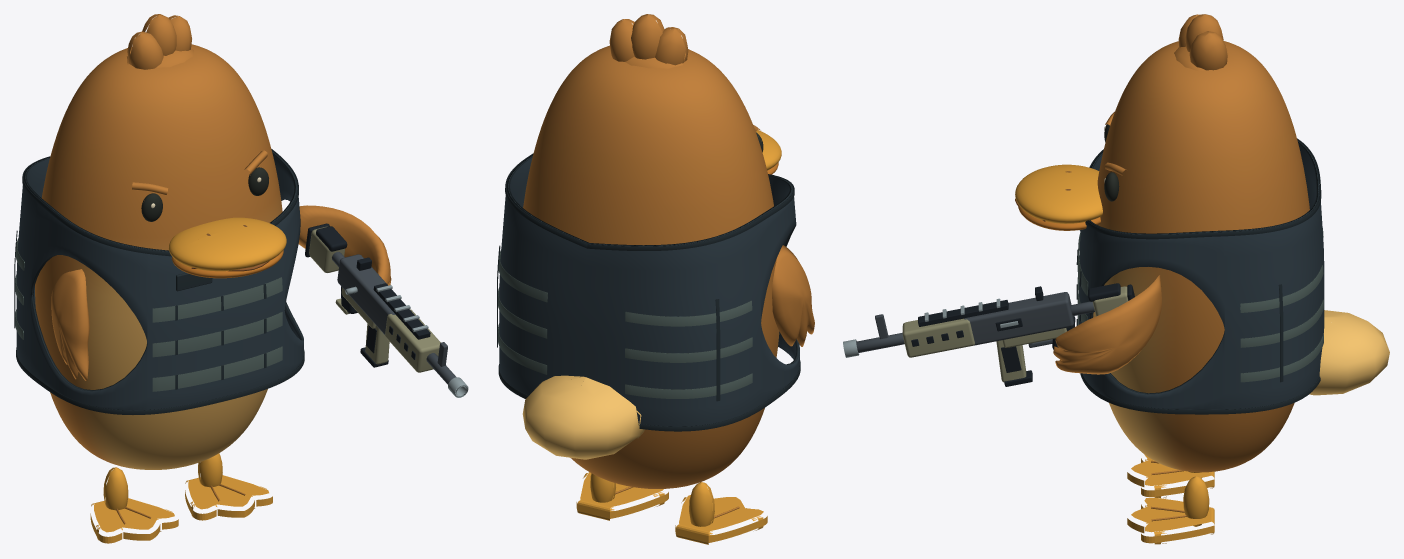
File: species-grips-duck-ready-preview.glb
The picture shows the model from 3 angles, left to right: view 1: azimuth 30°, elevation 25°; view 2: azimuth 150°, elevation 25°; view 3: azimuth 270°, elevation 25°; orthographic projection. The views are drawn at different scales.
Visible parts, largest first — view 1: duck_torso_mesh, duck_vest_refined_mesh, duck_beak_mesh, duck_leftArm_mesh, duck_leftFoot_mesh, prop_m4_m4 painted furniture, duck_rightFoot_mesh, duck_crestShort_mesh, duck_rightArm_mesh, prop_m4_Cerakote graphite, prop_m4_Recesses and rubber, prop_m4_Machined edges; view 2: duck_vest_refined_mesh, duck_torso_mesh, duck_tail_mesh, duck_crestShort_mesh, duck_leftFoot_mesh, duck_leftArm_mesh, duck_rightFoot_mesh, duck_beak_mesh; view 3: duck_torso_mesh, duck_vest_refined_mesh, duck_rightArm_mesh, duck_beak_mesh, duck_tail_mesh, prop_m4_Cerakote graphite, prop_m4_m4 painted furniture, duck_rightFoot_mesh, prop_m4_Recesses and rubber, duck_crestShort_mesh, duck_leftFoot_mesh.
Boxes of the visible parts, x1=… form: duck_torso_mesh: x1=35, y1=44, x2=282, y2=469; duck_vest_refined_mesh: x1=14, y1=149, x2=304, y2=414; duck_beak_mesh: x1=168, y1=217, x2=286, y2=278; duck_leftArm_mesh: x1=51, y1=269, x2=89, y2=380; duck_leftFoot_mesh: x1=90, y1=467, x2=178, y2=543; prop_m4_m4 painted furniture: x1=309, y1=226, x2=440, y2=372; duck_rightFoot_mesh: x1=185, y1=453, x2=272, y2=520; duck_crestShort_mesh: x1=127, y1=14, x2=193, y2=69; duck_rightArm_mesh: x1=298, y1=205, x2=391, y2=285; prop_m4_Cerakote graphite: x1=332, y1=252, x2=456, y2=384; prop_m4_Recesses and rubber: x1=305, y1=223, x2=430, y2=367; prop_m4_Machined edges: x1=345, y1=285, x2=468, y2=397; duck_vest_refined_mesh: x1=497, y1=153, x2=800, y2=431; duck_torso_mesh: x1=523, y1=45, x2=779, y2=488; duck_tail_mesh: x1=522, y1=375, x2=644, y2=459; duck_crestShort_mesh: x1=609, y1=14, x2=688, y2=68; duck_leftFoot_mesh: x1=675, y1=482, x2=767, y2=544; duck_leftArm_mesh: x1=772, y1=245, x2=814, y2=346; duck_rightFoot_mesh: x1=576, y1=472, x2=668, y2=520; duck_beak_mesh: x1=756, y1=130, x2=781, y2=174; duck_torso_mesh: x1=1093, y1=41, x2=1309, y2=472; duck_vest_refined_mesh: x1=1076, y1=138, x2=1324, y2=414; duck_rightArm_mesh: x1=1053, y1=275, x2=1161, y2=374; duck_beak_mesh: x1=1015, y1=164, x2=1102, y2=230; duck_tail_mesh: x1=1309, y1=310, x2=1389, y2=395; prop_m4_Cerakote graphite: x1=856, y1=292, x2=1094, y2=352; prop_m4_m4 painted furniture: x1=902, y1=286, x2=1128, y2=382; duck_rightFoot_mesh: x1=1127, y1=476, x2=1214, y2=544; prop_m4_Recesses and rubber: x1=911, y1=283, x2=1134, y2=386; duck_crestShort_mesh: x1=1174, y1=14, x2=1229, y2=71; duck_leftFoot_mesh: x1=1127, y1=454, x2=1214, y2=497.
Size of the model in its own units: 1.26 by 1.98 by 2.01.
